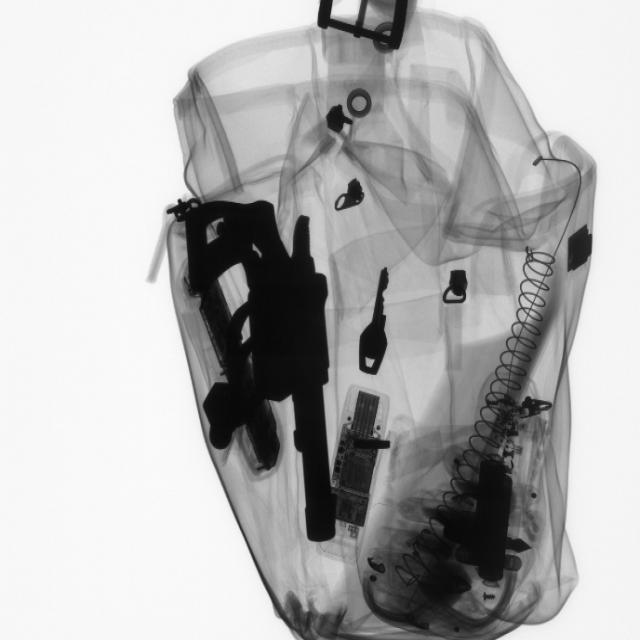GUN: (196, 193, 337, 555)
